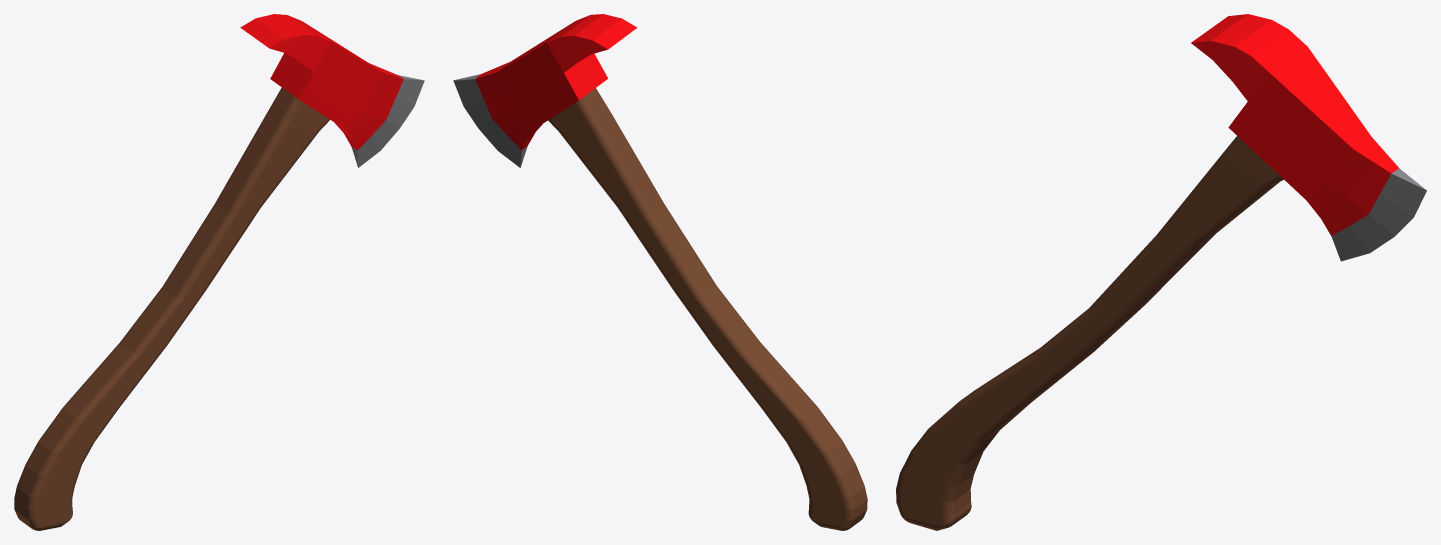
The model's file is fireaxe.glb.
3 views of the same model, side by side, from view 1: azimuth 30°, elevation 25°; view 2: azimuth 150°, elevation 25°; view 3: azimuth 330°, elevation 25° (orthographic). The views are drawn at different scales.
Parts seen in each view (by area): view 1: Cube, Cube.001, Cube.002; view 2: Cube, Cube.001, Cube.002; view 3: Cube, Cube.001, Cube.002.
Boxes of the visible parts, bbox=[...] form: Cube: bbox=[14, 87, 329, 530]; Cube.001: bbox=[240, 14, 403, 150]; Cube.002: bbox=[351, 75, 424, 167]; Cube: bbox=[548, 88, 867, 530]; Cube.001: bbox=[475, 14, 637, 150]; Cube.002: bbox=[453, 74, 527, 167]; Cube: bbox=[896, 136, 1283, 530]; Cube.001: bbox=[1191, 14, 1398, 235]; Cube.002: bbox=[1331, 168, 1426, 261].
Bounding box in the file's own units: 3.51 × 3.64 × 0.4447.
